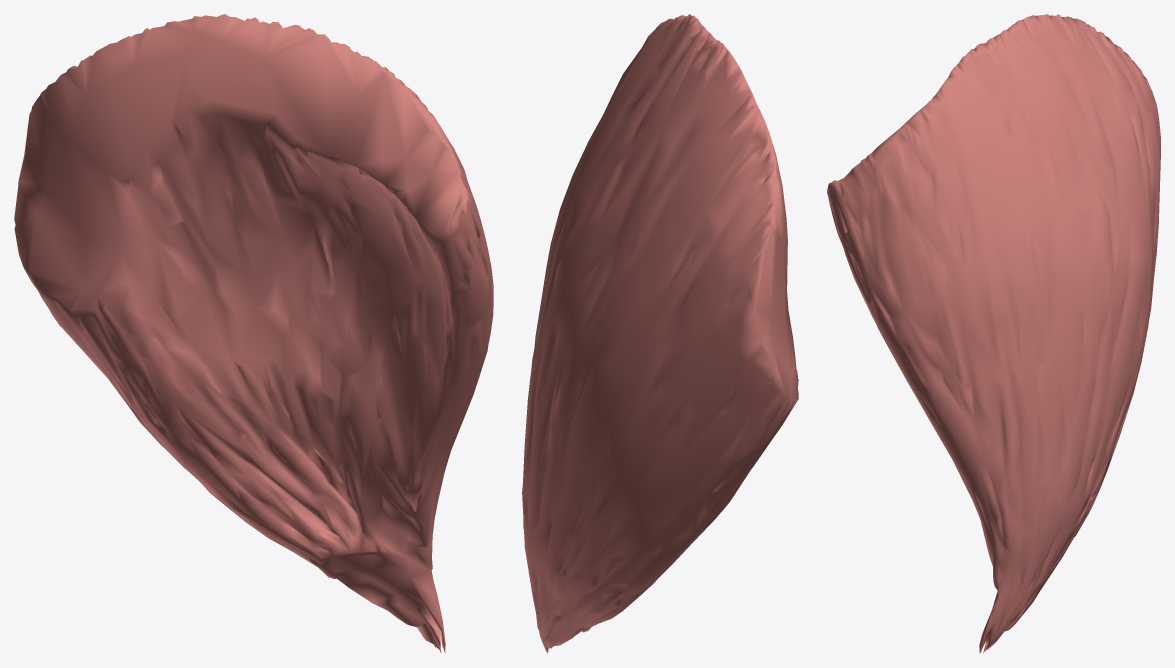
3 views of the same model, side by side, from view 1: azimuth 30°, elevation 25°; view 2: azimuth 150°, elevation 25°; view 3: azimuth 270°, elevation 25° (orthographic). The views are drawn at different scales.
Parts seen in each view (by area): view 1: ZA_98cfd2e473952973; view 2: ZA_98cfd2e473952973; view 3: ZA_98cfd2e473952973.
Part boxes in pixels (<box>): ZA_98cfd2e473952973: <box>14,14,493,653</box>; ZA_98cfd2e473952973: <box>522,14,798,653</box>; ZA_98cfd2e473952973: <box>827,14,1160,653</box>.
Size of the model in its own units: 0.0891 by 0.168 by 0.0916.
